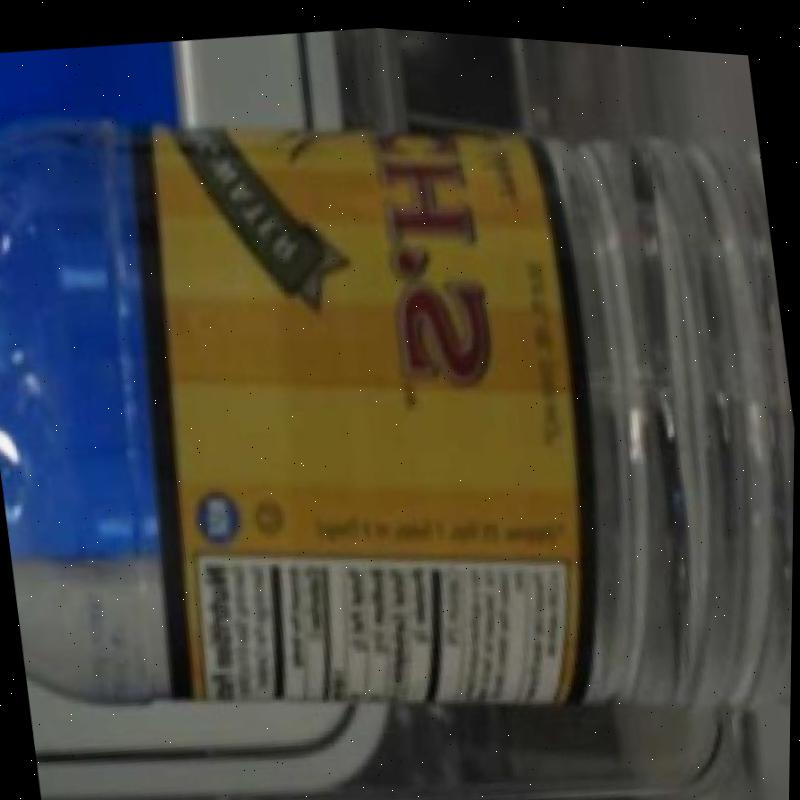botella: (0, 21, 800, 795)
